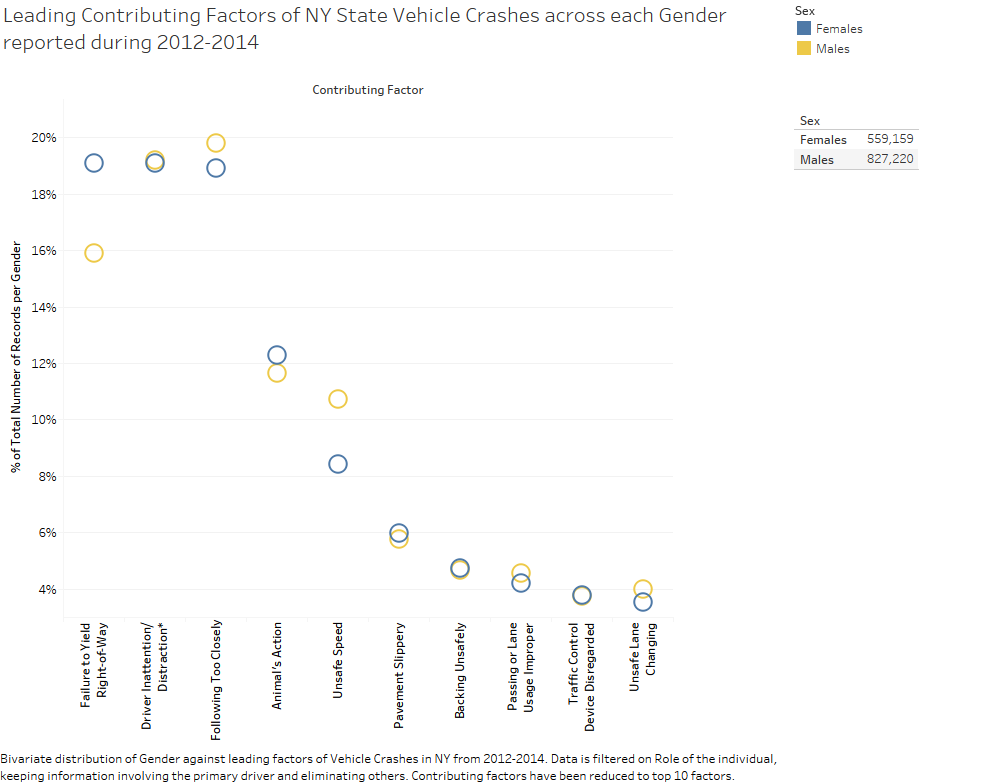

This screenshot's page, from the dashboard's own definition file:
{"tool":"tableau","page":{"name":"Dashboard 1","canvas":[1000,800],"ordinal":0},"visuals":[{"type":"title","box":[0,0,798,68]},{"type":"legend","title":"Sheet 1","param":"[federated.1g5aep0085xpwj15yu9dx19zcttc].[Sex (group)]","box":[798,0,202,70]},{"type":"worksheet","title":"Sheet 1","mark":"Shape","cols":["Contributing Factor 1 Description"],"box":[0,68,798,732]},{"type":"worksheet","title":"Sheet 2","mark":"Automatic","box":[798,70,202,112]}]}

Visuals, with their boxes in screenshot pixels (x1, y1, x2, y2), scaled from the page's 1000x800 canvas onto the 984x784 screenshot:
title: (0,0,785,67)
"Sheet 1" legend: (785,0,983,69)
"Sheet 1" worksheet (Shape marks): (0,67,785,783)
"Sheet 2" worksheet: (785,69,983,178)
